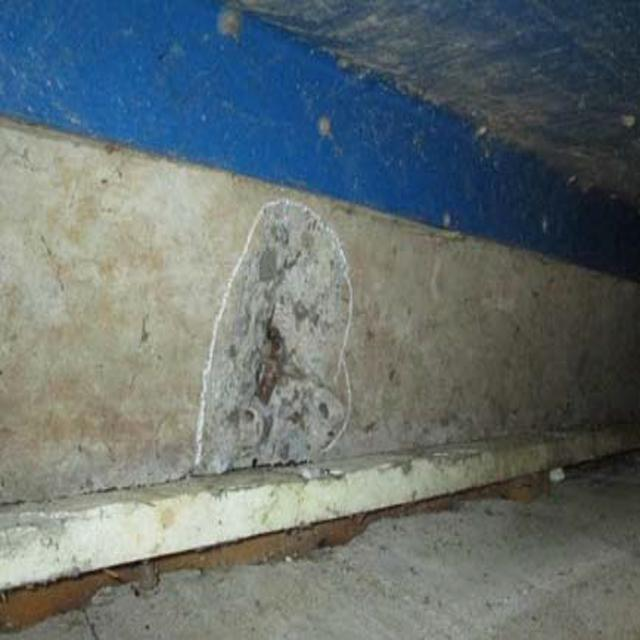spalling: (203, 192, 357, 474)
